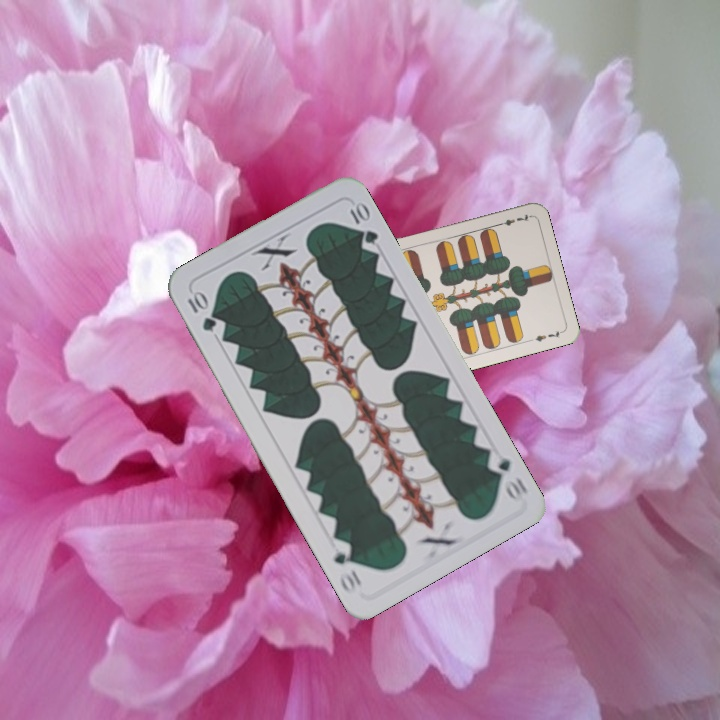E7: (493, 210, 532, 229)
G10: (483, 452, 530, 505), (183, 286, 219, 334)
